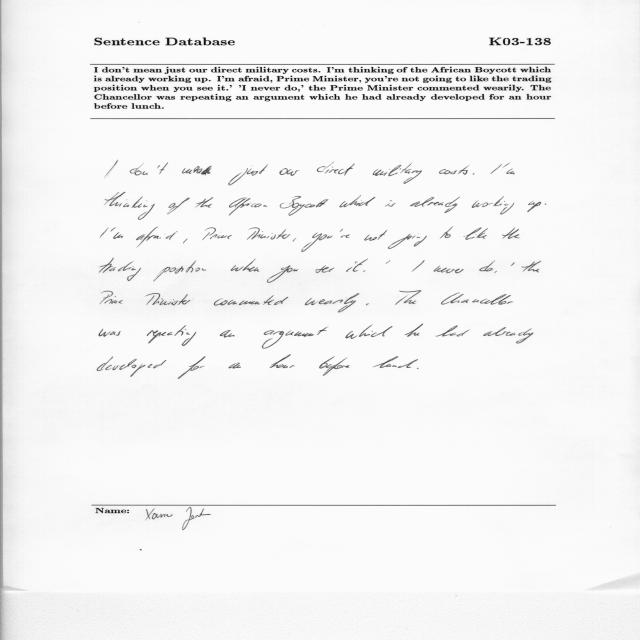word: (97, 356, 167, 377), (262, 327, 327, 349), (105, 192, 155, 220), (154, 260, 207, 282), (305, 293, 359, 313), (372, 163, 422, 184), (147, 325, 196, 346), (280, 196, 329, 216), (100, 258, 142, 281), (441, 293, 513, 305), (483, 327, 533, 344), (136, 227, 177, 247), (214, 295, 288, 306), (410, 197, 460, 213), (472, 196, 514, 215), (228, 165, 267, 185), (229, 198, 267, 216), (346, 325, 393, 339), (178, 356, 206, 379), (301, 233, 333, 252), (319, 356, 349, 376), (388, 234, 427, 249), (247, 227, 291, 240), (267, 265, 298, 283), (146, 293, 191, 305), (373, 356, 418, 368), (317, 162, 355, 176), (130, 163, 168, 176), (340, 195, 376, 208), (167, 198, 190, 215), (202, 228, 232, 241), (231, 259, 260, 272), (396, 291, 422, 305), (436, 326, 469, 337), (464, 227, 489, 240), (270, 355, 295, 368), (439, 165, 469, 175), (100, 291, 123, 304), (346, 259, 368, 272), (182, 166, 212, 175), (365, 230, 388, 241), (405, 324, 423, 337), (522, 261, 541, 273), (502, 227, 520, 239), (434, 266, 464, 273), (196, 197, 213, 208), (106, 161, 118, 176), (479, 261, 495, 272), (99, 329, 121, 337), (280, 168, 300, 176), (412, 260, 425, 272), (527, 201, 541, 212), (316, 265, 335, 273), (111, 227, 123, 239), (440, 227, 453, 238), (503, 163, 515, 174), (490, 164, 502, 174), (220, 330, 235, 337), (340, 229, 350, 238), (385, 200, 396, 207), (101, 228, 109, 237), (229, 363, 241, 369), (183, 239, 187, 244), (293, 238, 297, 242), (511, 263, 514, 266), (386, 262, 389, 264), (494, 271, 497, 273), (366, 304, 369, 306), (473, 173, 475, 175), (363, 270, 365, 272), (545, 203, 546, 205), (417, 368, 419, 369), (389, 260, 390, 261)
